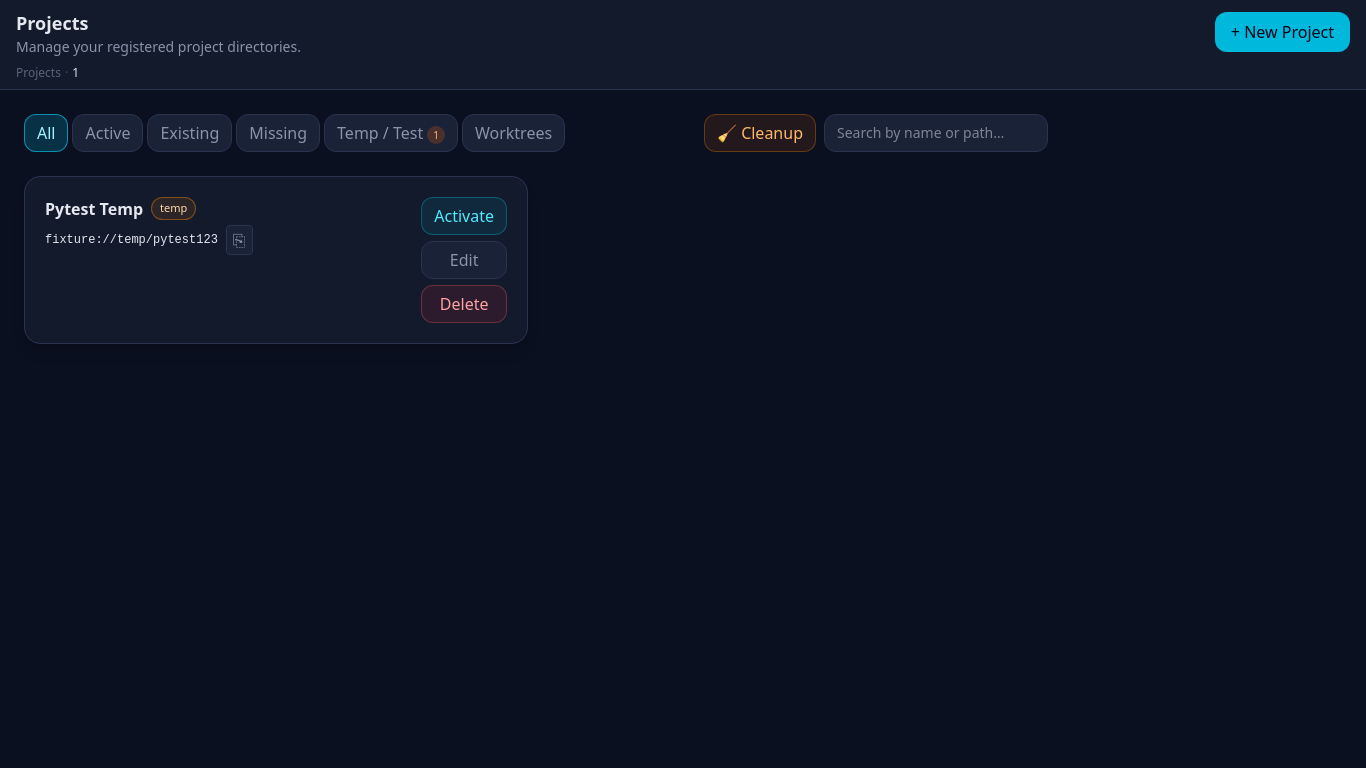
Test: ProjectsPage cleanup modal › shows preview count after opening cleanup modal
The image size is (1366, 768).
What coordinates should you click on to do the following:
click the button "🧹 Cleanup"
I would click on:
 (760, 132)
Its box is [704,114,816,152].
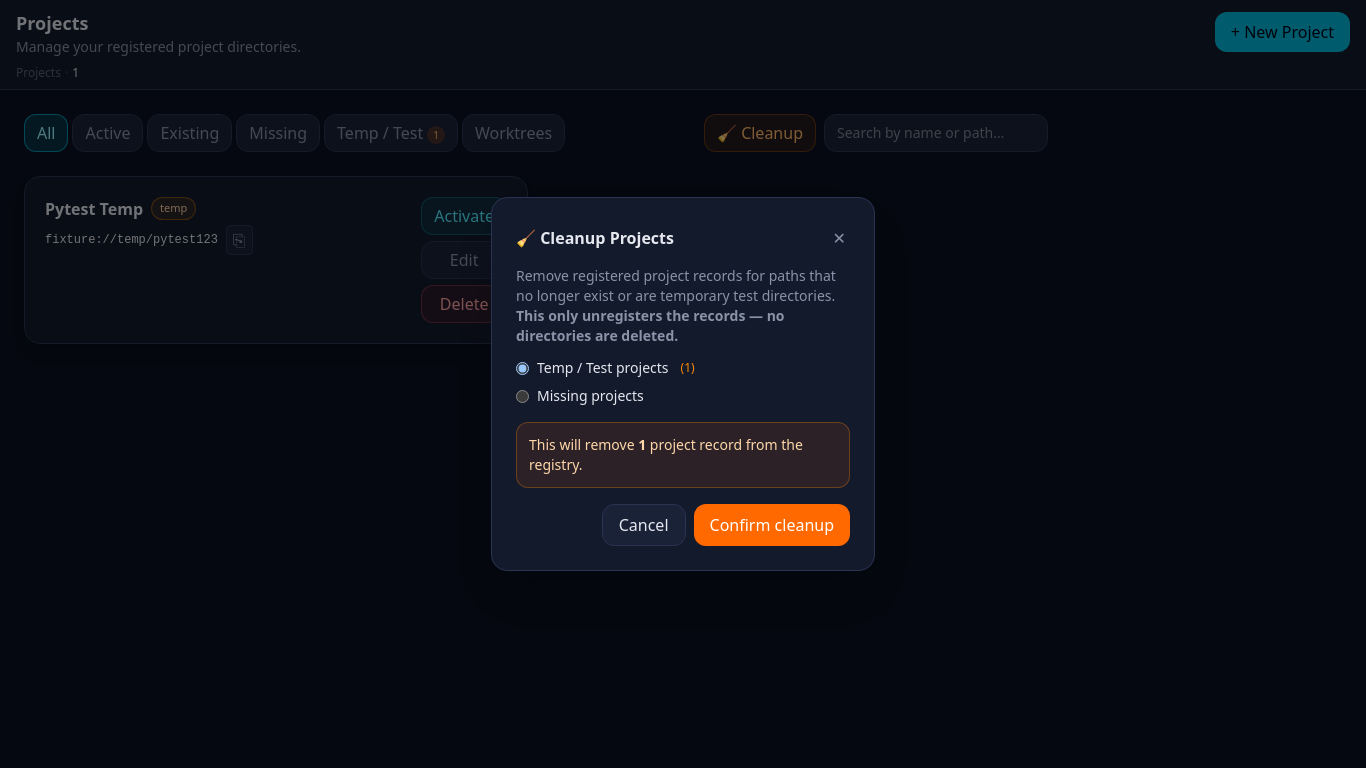
expect the text "This will remove 1 project record from the registry." is shown: met, box [516,422,850,488]
